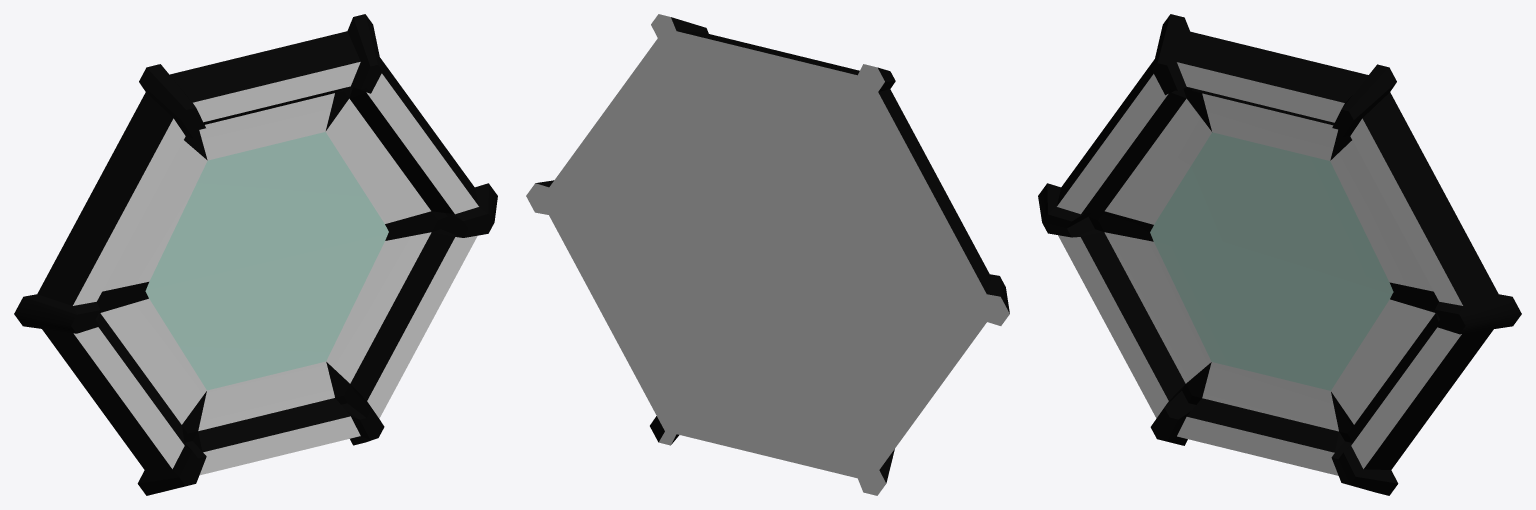
The model's file is Lighting fixture.fbx.
3 renders of one model, left to right at view 1: azimuth 30°, elevation 25°; view 2: azimuth 150°, elevation 25°; view 3: azimuth 330°, elevation 25°, orthographic.
Visible parts, largest first — view 1: pCube1; view 2: pCube1; view 3: pCube1.
Part boxes in pixels (x1,y1,x2,y2): pCube1: [14, 14, 497, 495]; pCube1: [526, 14, 1009, 495]; pCube1: [1038, 14, 1521, 495].
Size of the model in its own units: 74.44 by 62.99 by 7.05.
